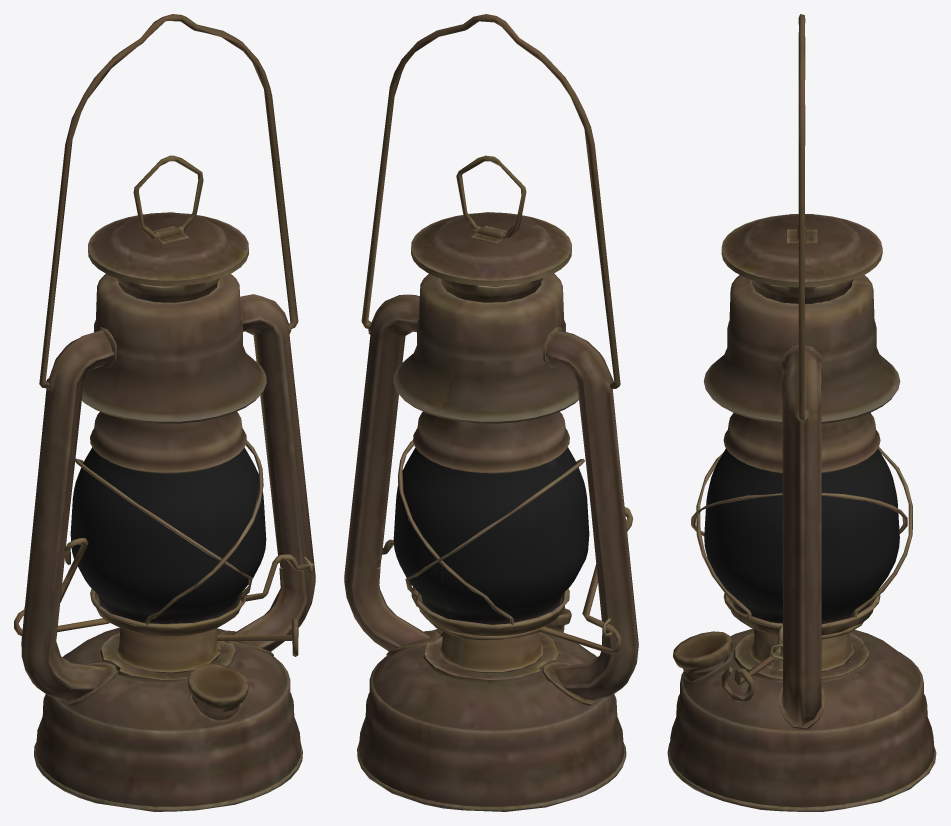
File: Lantern_01.glb
3 views of the same model, side by side, from view 1: azimuth 30°, elevation 25°; view 2: azimuth 150°, elevation 25°; view 3: azimuth 270°, elevation 25° (orthographic).
Visible parts, largest first — view 1: Lantern_01, Lantern_01_glass; view 2: Lantern_01, Lantern_01_glass; view 3: Lantern_01, Lantern_01_glass.
Part boxes in pixels (x1,y1,x2,y2): Lantern_01: (14, 14, 315, 811); Lantern_01_glass: (70, 447, 266, 623); Lantern_01: (344, 14, 638, 811); Lantern_01_glass: (393, 447, 589, 624); Lantern_01: (667, 14, 936, 811); Lantern_01_glass: (704, 448, 899, 624).
Bounding box in the file's own units: 0.1219 × 0.2939 × 0.097.
2 materials, 2 textured.
